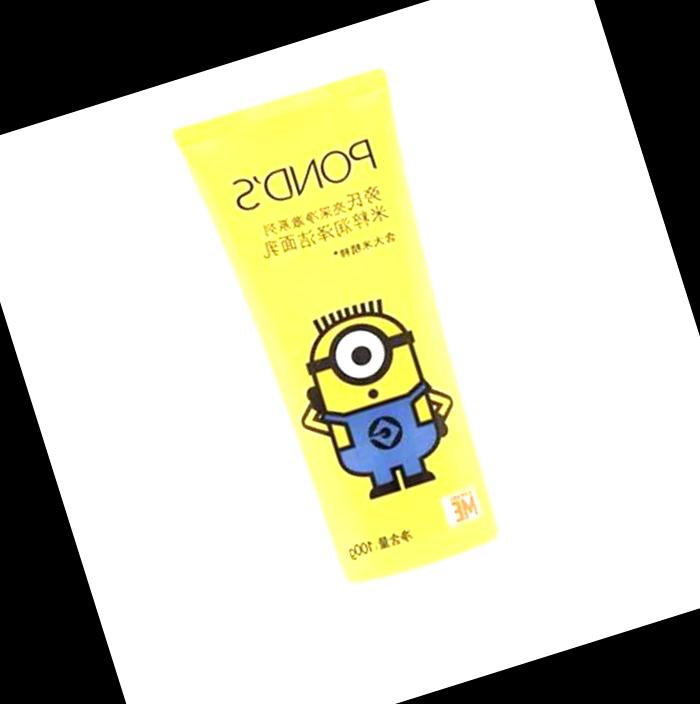cosmetic: (166, 64, 564, 691)
